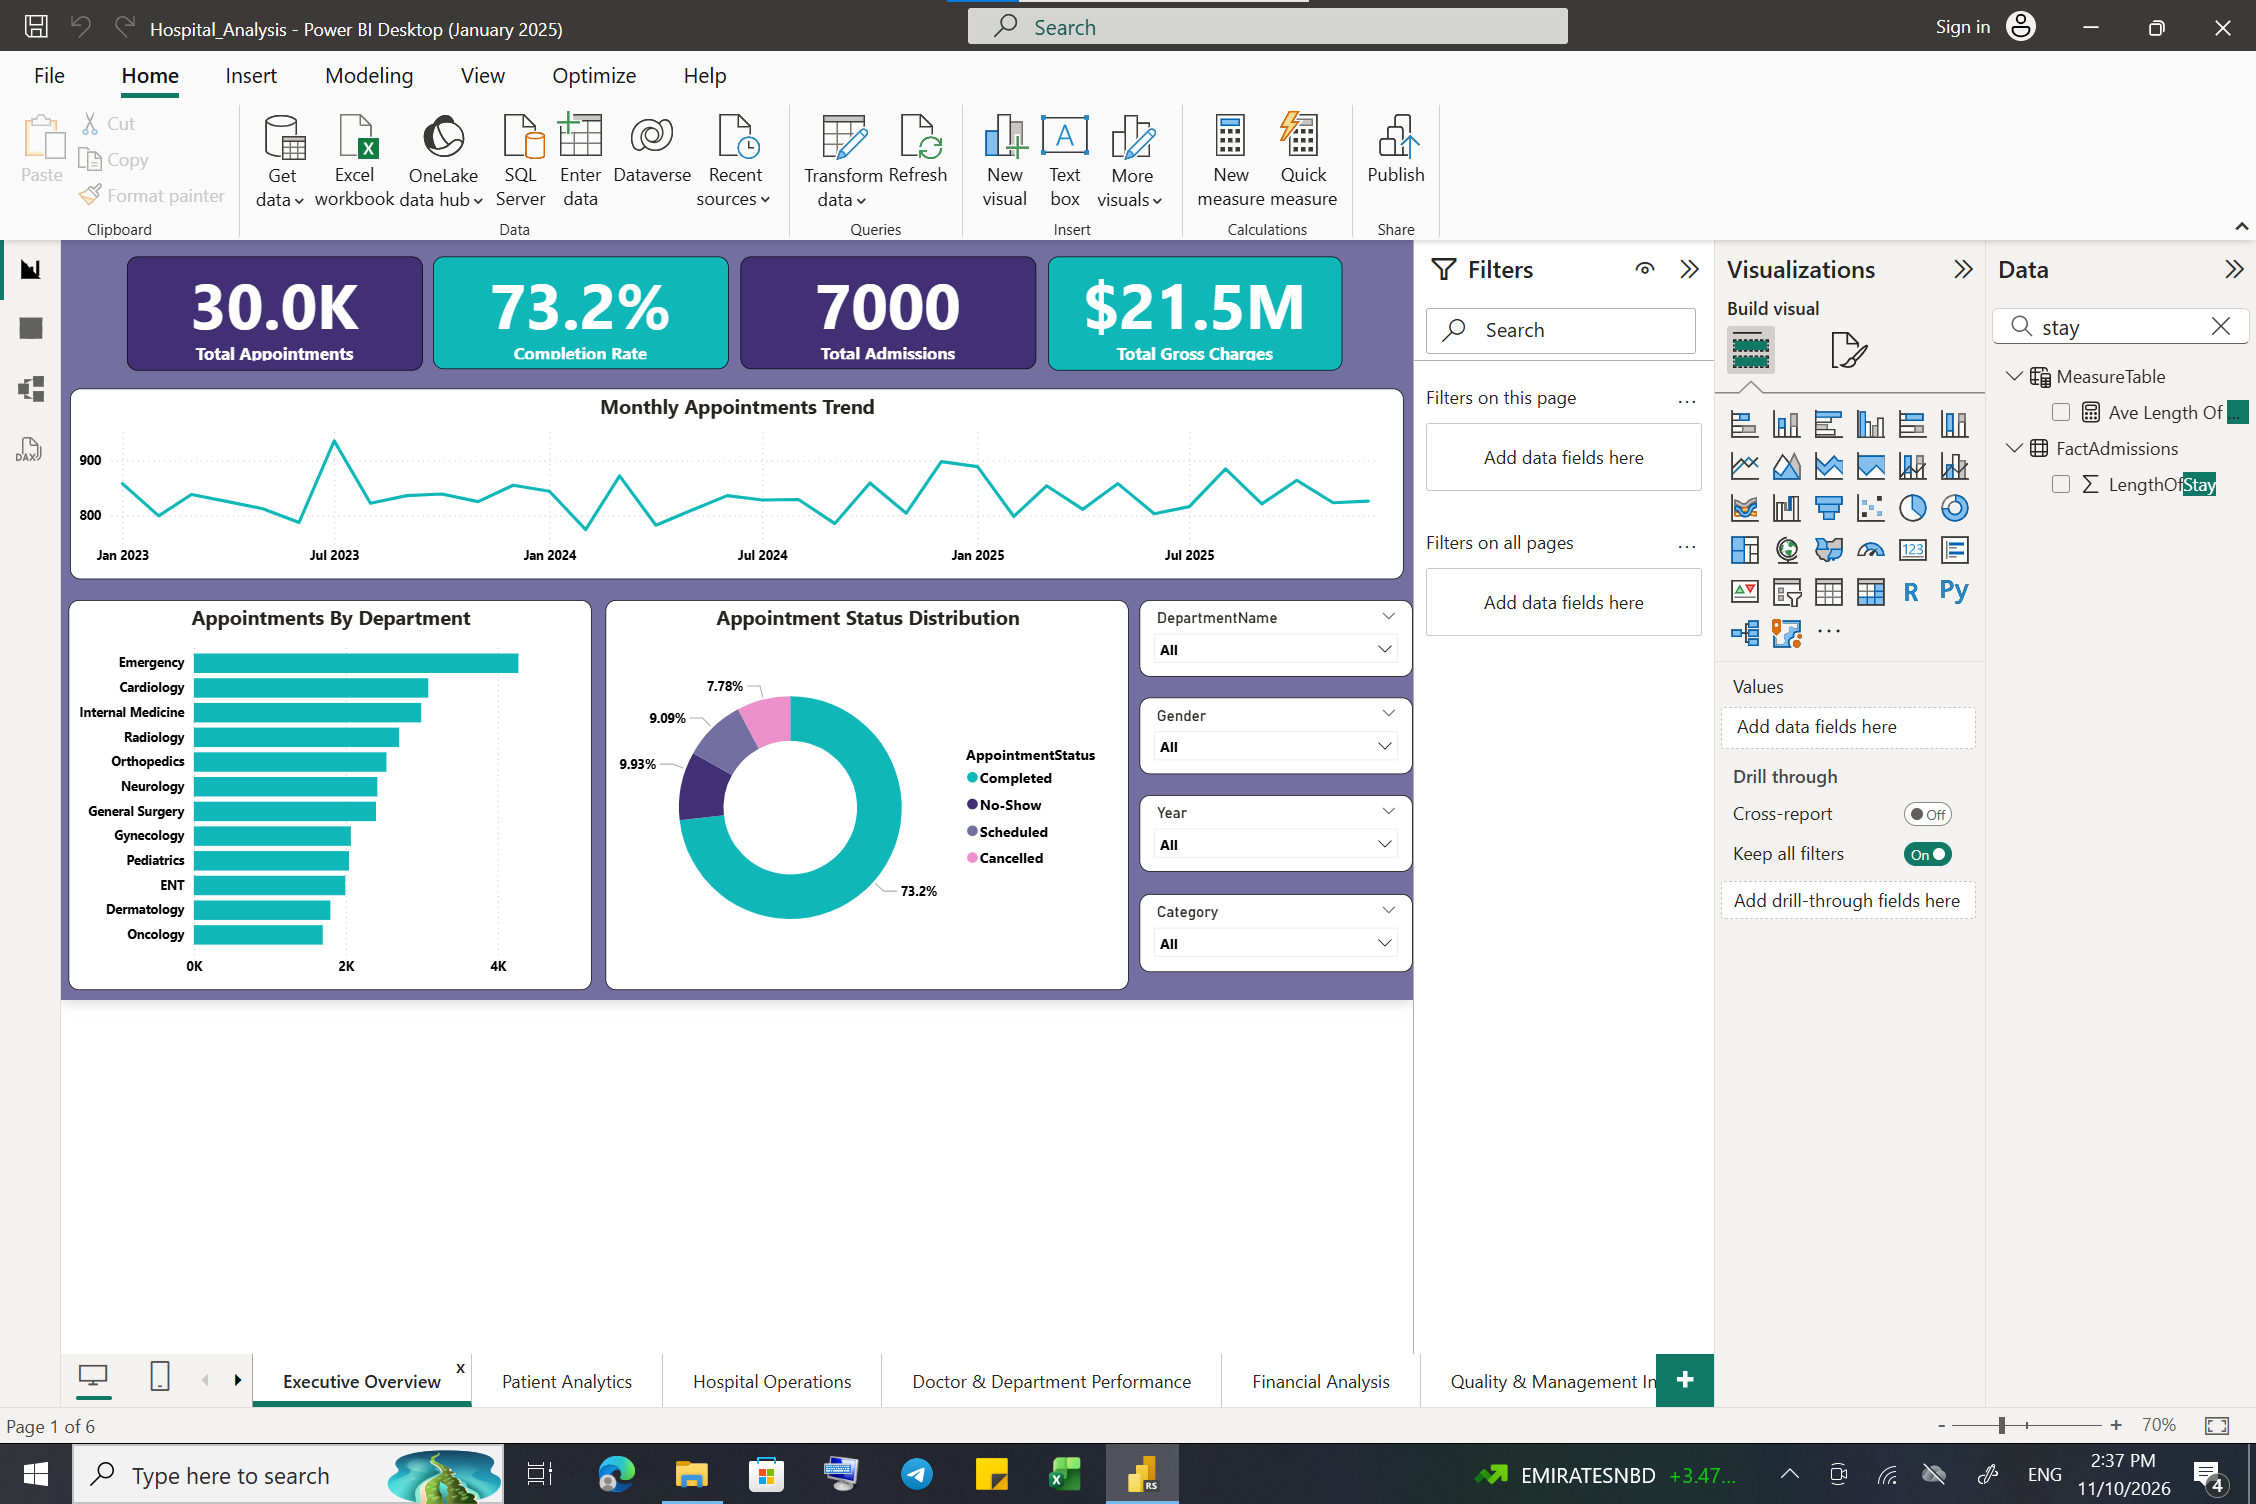

Layout of this report page (visuals, bound fields, positions):
{"tool":"powerbi","page":{"name":"Executive Overview","canvas":[1280,720],"ordinal":0},"visuals":[{"type":"card","fields":{"Values":["MeasureTable.Total Appointments"]},"box":[62.2,15.5,279.8,107.9],"z":0},{"type":"card","fields":{"Values":["MeasureTable.Total Admissions"]},"box":[643.5,16.2,279.8,106.5],"z":1000},{"type":"card","fields":{"Values":["MeasureTable.Total Gross Charges"]},"box":[934.1,15.5,278.3,107.9],"z":2000},{"type":"card","fields":{"Values":["MeasureTable.Completion Rate"]},"box":[352.8,16.2,279.8,106.5],"z":3000},{"type":"lineChart","title":"Monthly Appointments Trend","fields":{"Category":["DimDate.YearMonth"],"Y":["MeasureTable.Total Appointments"]},"box":[8.5,140.6,1262.5,180.4],"z":4000},{"type":"clusteredBarChart","title":"Appointments By Department","fields":{"Category":["DimDepartment.DepartmentName"],"Y":["MeasureTable.Total Appointments"]},"box":[7.1,340.8,495.6,369.2],"z":5000},{"type":"donutChart","title":"Appointment Status Distribution","fields":{"Category":["FactAppointments.AppointmentStatus"],"Y":["CountNonNull(FactAppointments.AppointmentID)"]},"box":[515.5,340.8,495.6,369.2],"z":6000},{"type":"slicer","fields":{"Values":["DimDate.Year"]},"box":[1021.1,525.4,258.5,72.4],"z":7000},{"type":"slicer","fields":{"Values":["DimDepartment.DepartmentName"]},"box":[1021.1,340.8,258.5,72.4],"z":8000},{"type":"slicer","fields":{"Values":["DimPatient.Gender"]},"box":[1021.1,433.1,258.5,72.4],"z":9000},{"type":"slicer","fields":{"Values":["DimTreatment.Category"]},"box":[1021.1,619.2,258.5,73.8],"z":10000}]}

Visuals, with their boxes on the page's 1280x720 design canvas (x1, y1, x2, y2). These are canvas units, not pixel positions in the 2256x1504 screenshot, which may show the page scaled, cropped or inside an application window:
card - MeasureTable.Total Appointments: [x1=62, y1=16, x2=342, y2=123]
card - MeasureTable.Total Admissions: [x1=644, y1=16, x2=923, y2=123]
card - MeasureTable.Total Gross Charges: [x1=934, y1=16, x2=1212, y2=123]
card - MeasureTable.Completion Rate: [x1=353, y1=16, x2=633, y2=123]
"Monthly Appointments Trend" lineChart: [x1=8, y1=141, x2=1271, y2=321]
"Appointments By Department" clusteredBarChart: [x1=7, y1=341, x2=503, y2=710]
"Appointment Status Distribution" donutChart: [x1=516, y1=341, x2=1011, y2=710]
slicer - DimDate.Year: [x1=1021, y1=525, x2=1280, y2=598]
slicer - DimDepartment.DepartmentName: [x1=1021, y1=341, x2=1280, y2=413]
slicer - DimPatient.Gender: [x1=1021, y1=433, x2=1280, y2=506]
slicer - DimTreatment.Category: [x1=1021, y1=619, x2=1280, y2=693]
